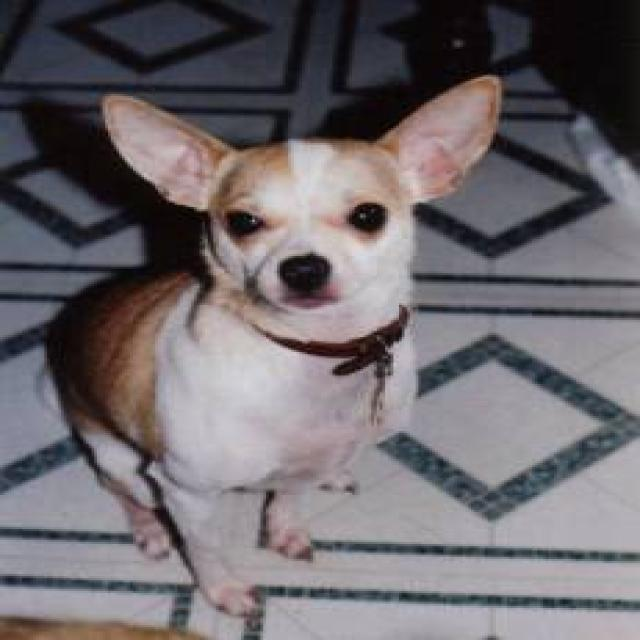dog-chihuahua: (28, 64, 521, 619)
